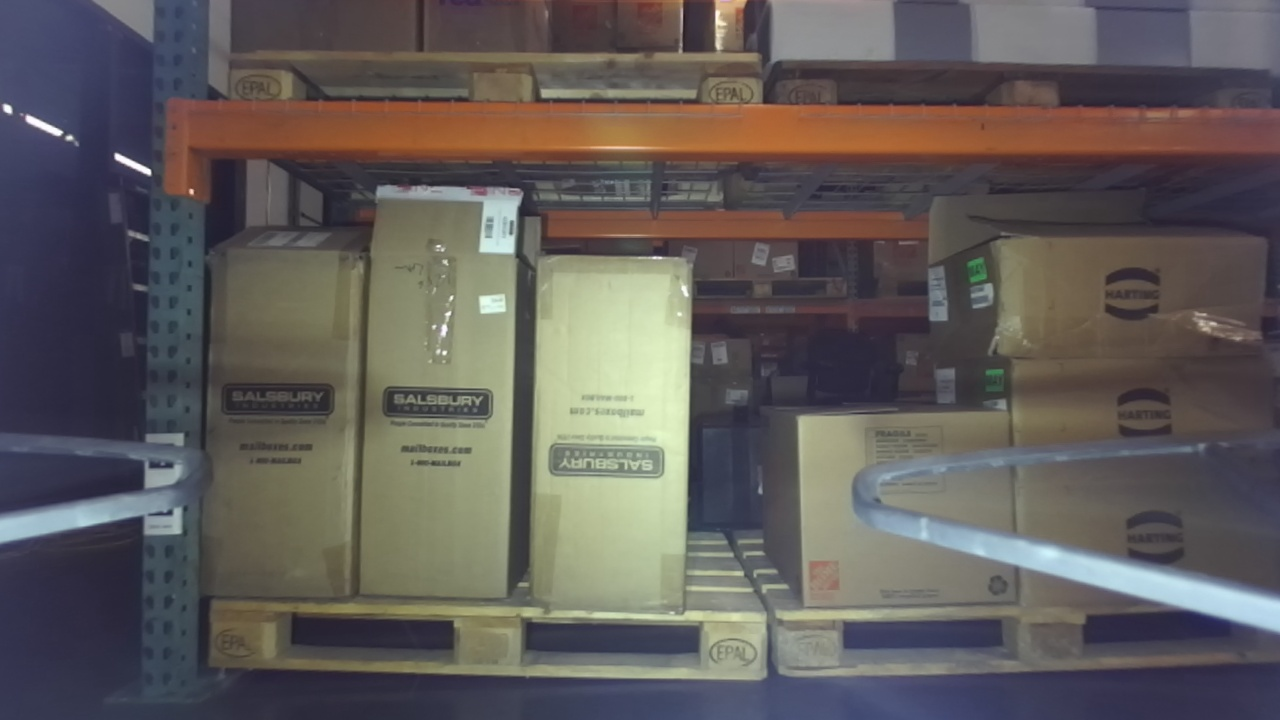box: (353, 174, 527, 629), (196, 220, 376, 630), (520, 240, 709, 630), (743, 384, 1030, 617), (916, 192, 1271, 350), (985, 461, 1280, 622), (985, 355, 1280, 501)
